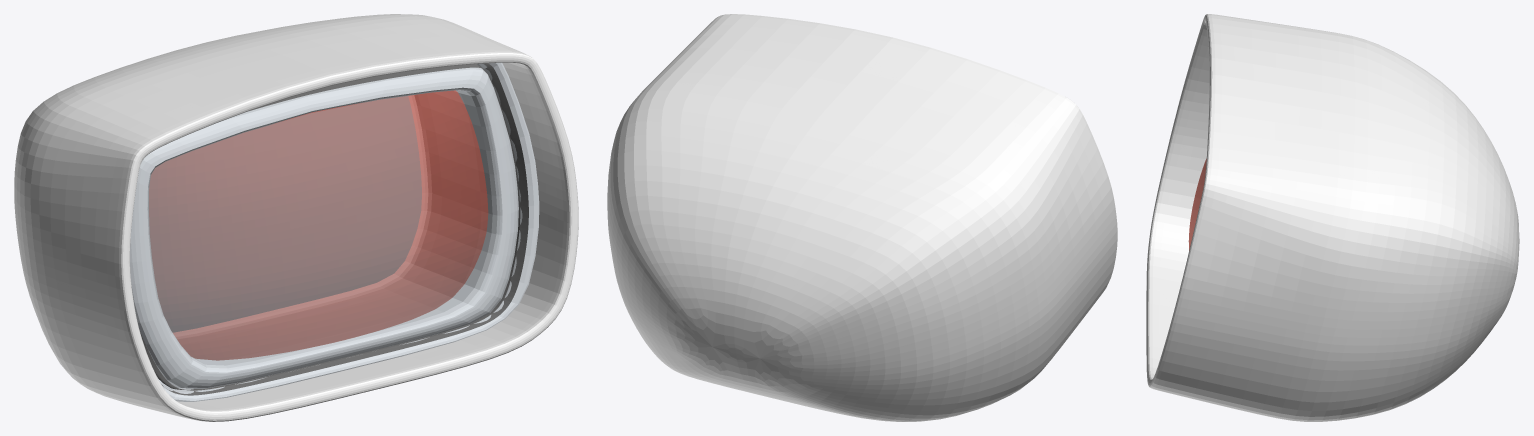
Rendered from head.glb.
3 views of the same model, side by side, from view 1: azimuth 30°, elevation 25°; view 2: azimuth 150°, elevation 25°; view 3: azimuth 270°, elevation 25° (orthographic). The views are drawn at different scales.
Parts seen in each view (by area): view 1: HEAD; view 2: HEAD; view 3: HEAD.
Part boxes in pixels (box(x1,y1,x2,y2)): HEAD: box(14, 14, 578, 421); HEAD: box(607, 14, 1117, 421); HEAD: box(1146, 14, 1519, 421).
Size of the model in its own units: 3.14 by 2.1 by 2.51.
